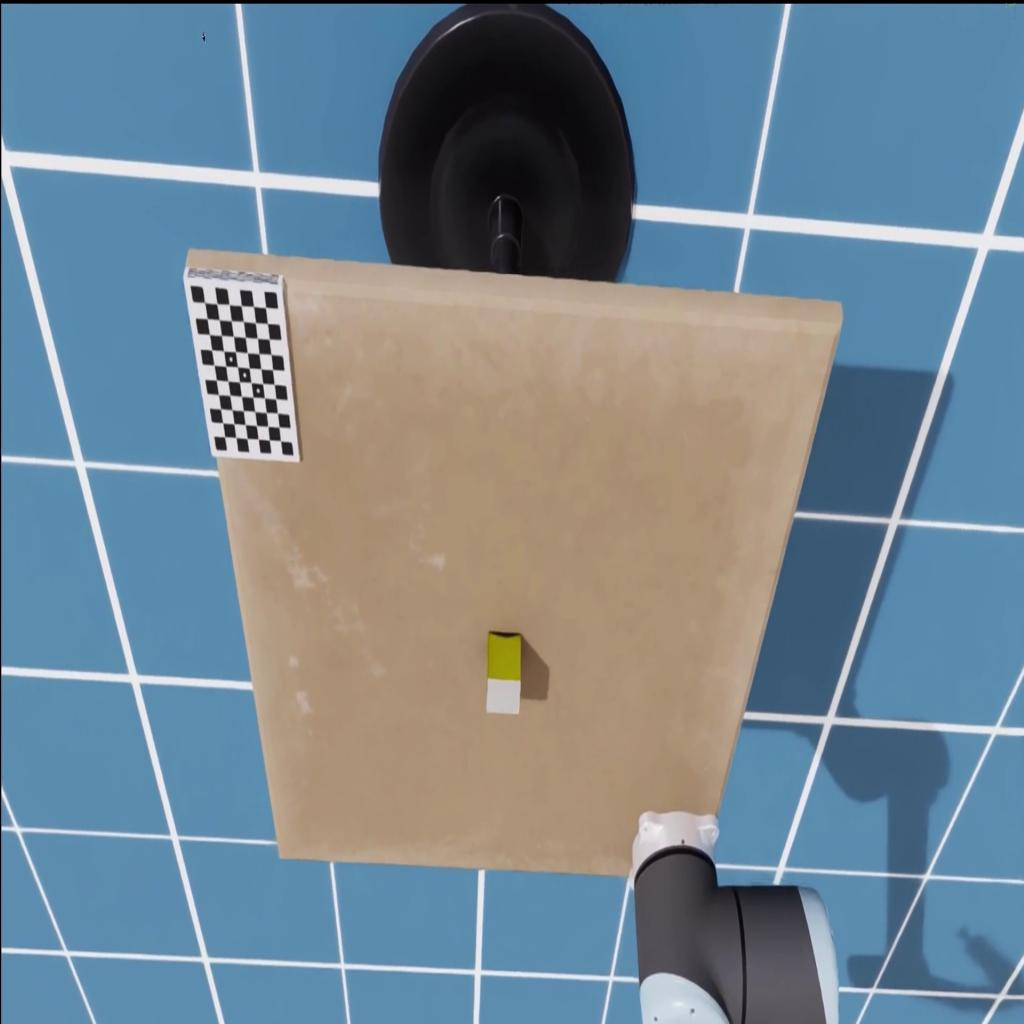Cube: (485, 630, 521, 714)
QR: (182, 248, 302, 464)
Robot: (628, 807, 838, 1024)
Table: (182, 244, 842, 882)
